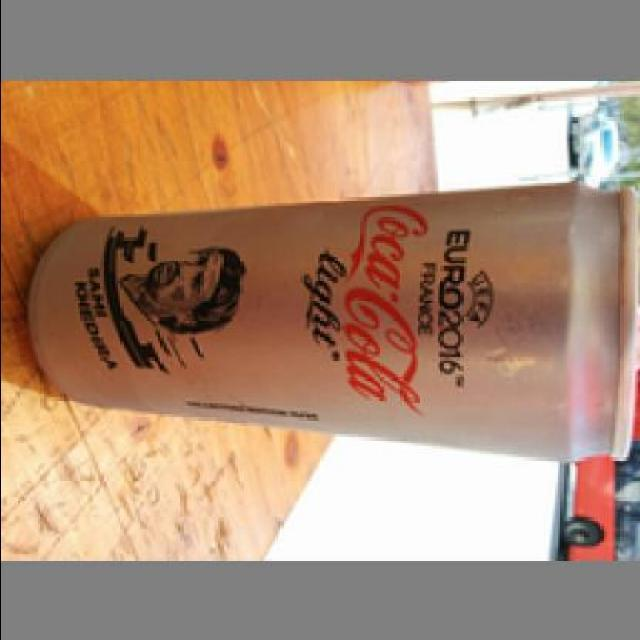Coke: (23, 174, 639, 463)
